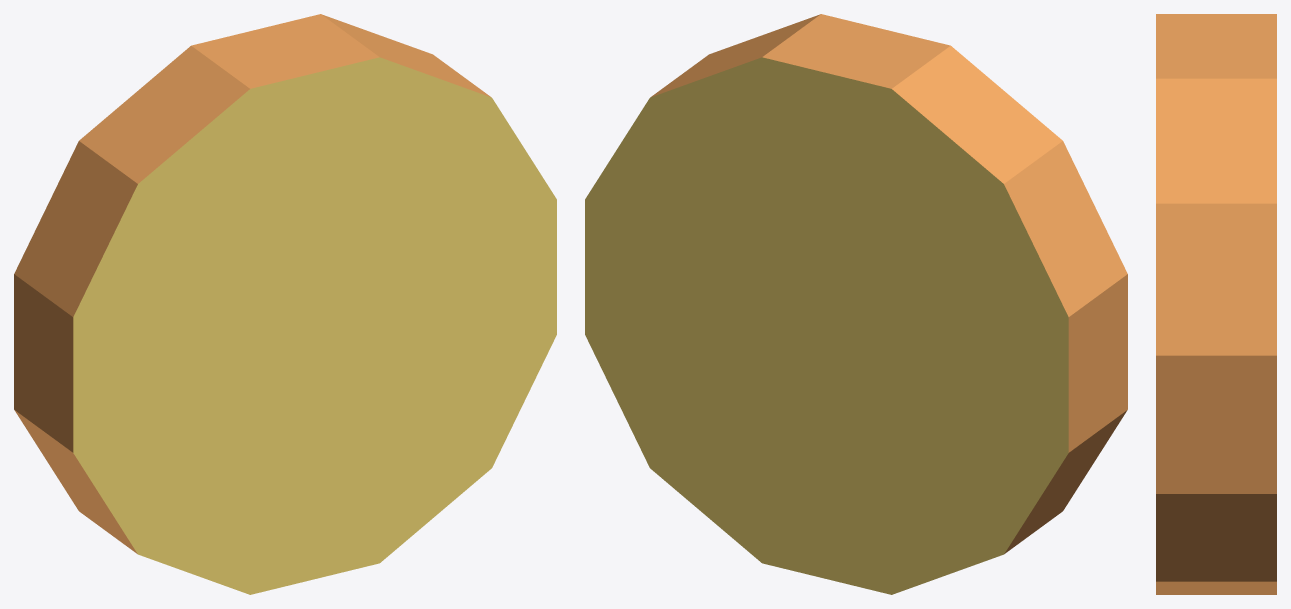
File: coin.glb
3 views of the same model, side by side, from view 1: azimuth 30°, elevation 25°; view 2: azimuth 150°, elevation 25°; view 3: azimuth 270°, elevation 25° (orthographic). The views are drawn at different scales.
Visible parts, largest first — view 1: Coin; view 2: Coin; view 3: Coin.
Boxes of the visible parts, box(x1,y1,x2,y2) form: Coin: box(14, 14, 556, 594); Coin: box(585, 14, 1127, 594); Coin: box(1156, 14, 1276, 594).
Size of the model in its own units: 0.425 by 0.425 by 0.09.
